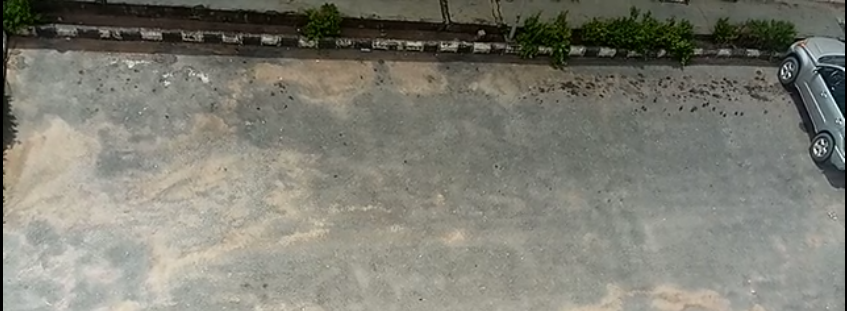four: (578, 19, 703, 221)
one: (4, 6, 138, 221)
three: (395, 23, 525, 219)
two: (210, 10, 347, 218)
